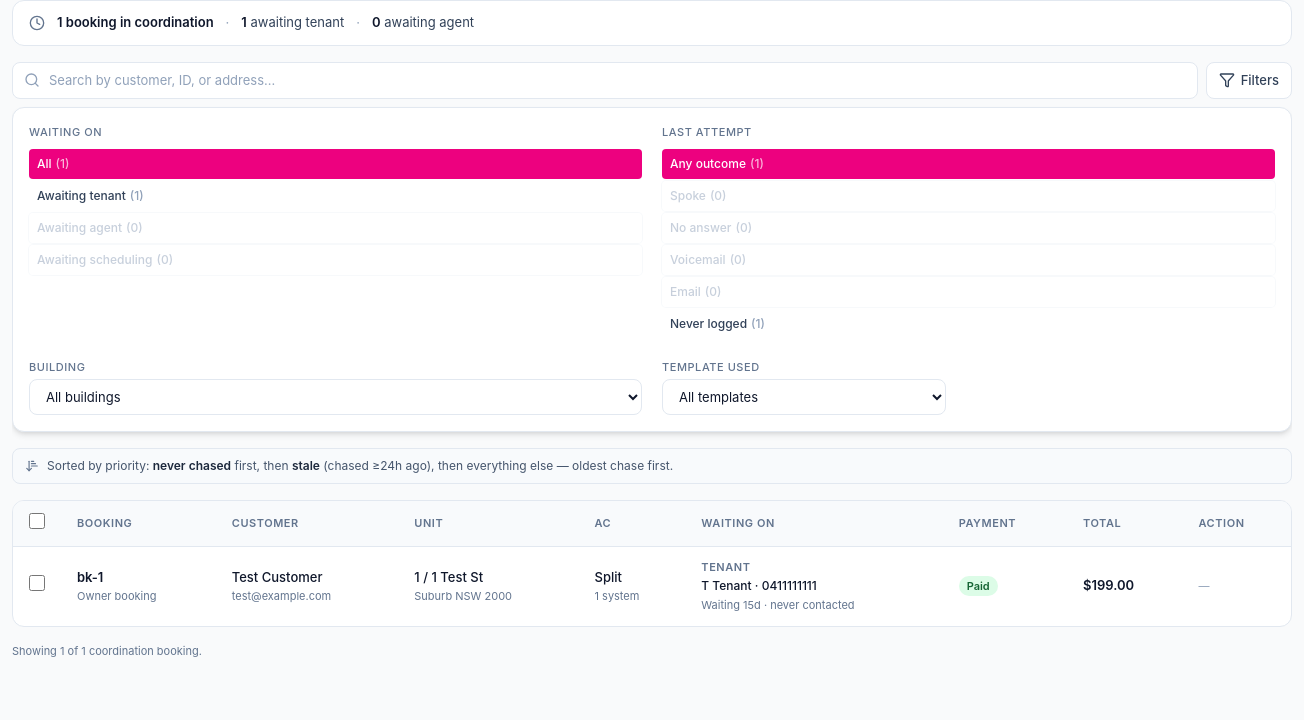
Scenario: AwaitingCoordinationView · bulk-action default-template hint › with no defaults set, the hint banner is omitted
This screenshot has width=1304, height=720.
// Need a selection to mount the bulk-action bar at all.
Step 1. Click the checkbox with test id "checkbox-coordination-row-bk-1" → click(37, 583), box [29, 575, 45, 591]
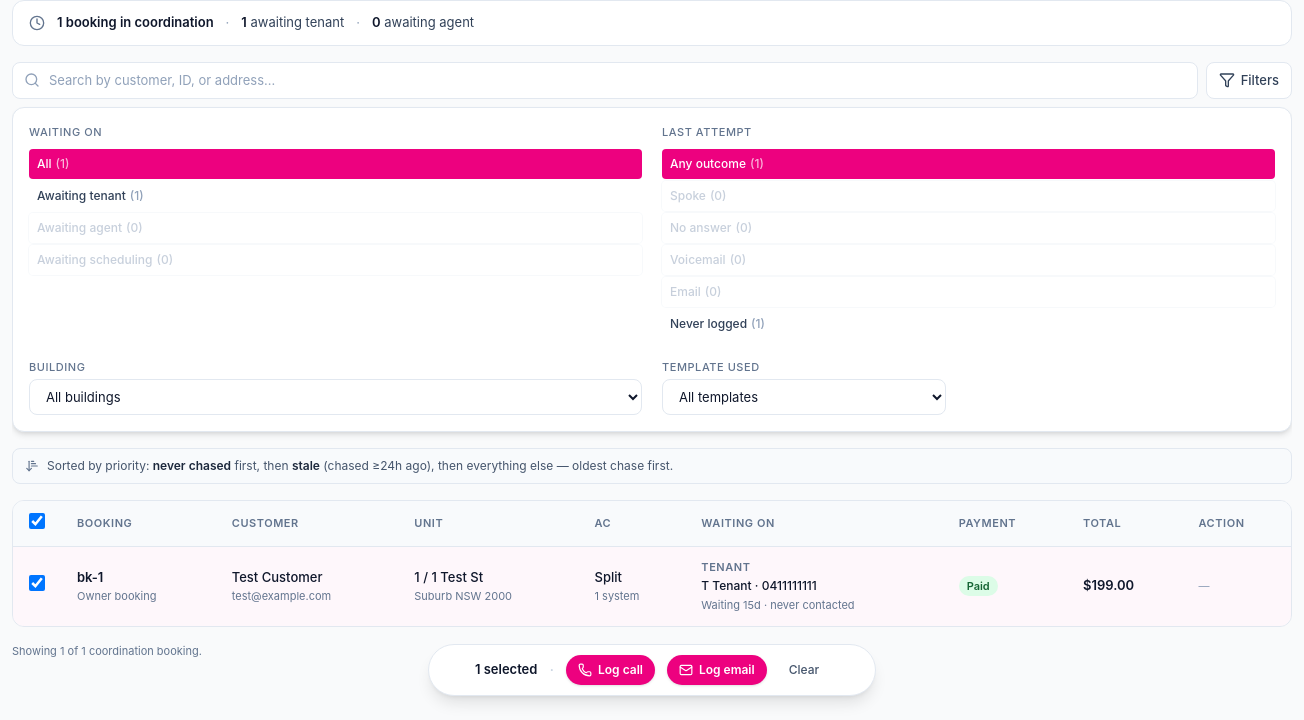
Check: the element with test id "bulk-action-bar-coordination" is shown, box [428, 644, 876, 696]
